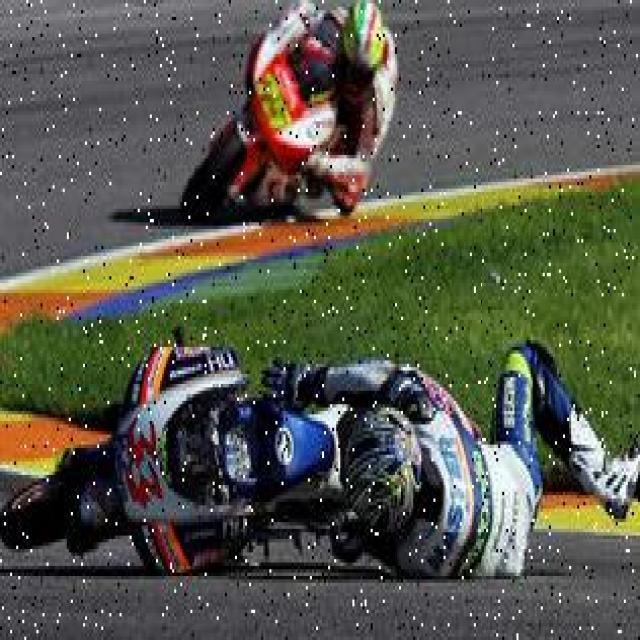fall: (290, 347, 634, 579)
